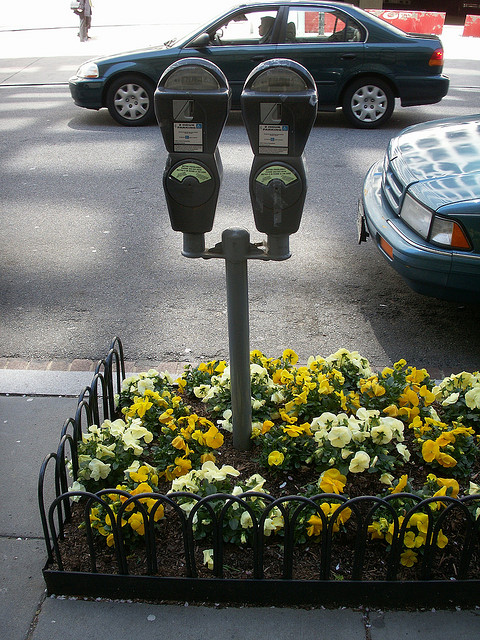Car: (70, 3, 450, 114), (365, 106, 480, 271)
